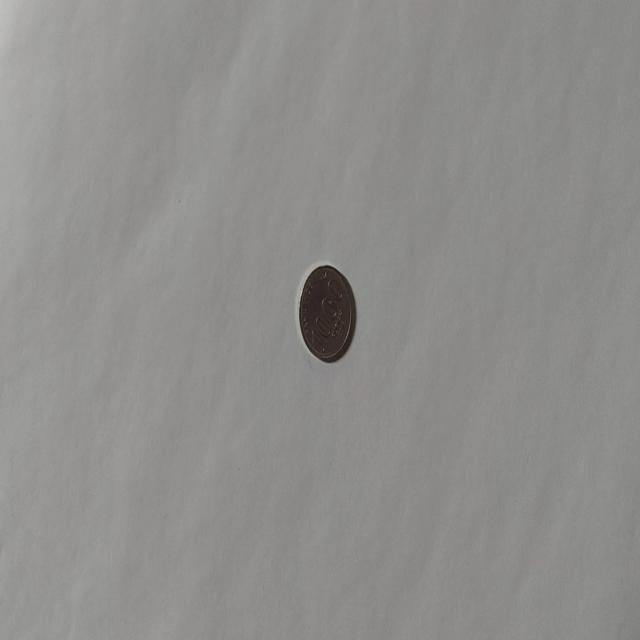seribu rupiah koin: (296, 262, 354, 363)
